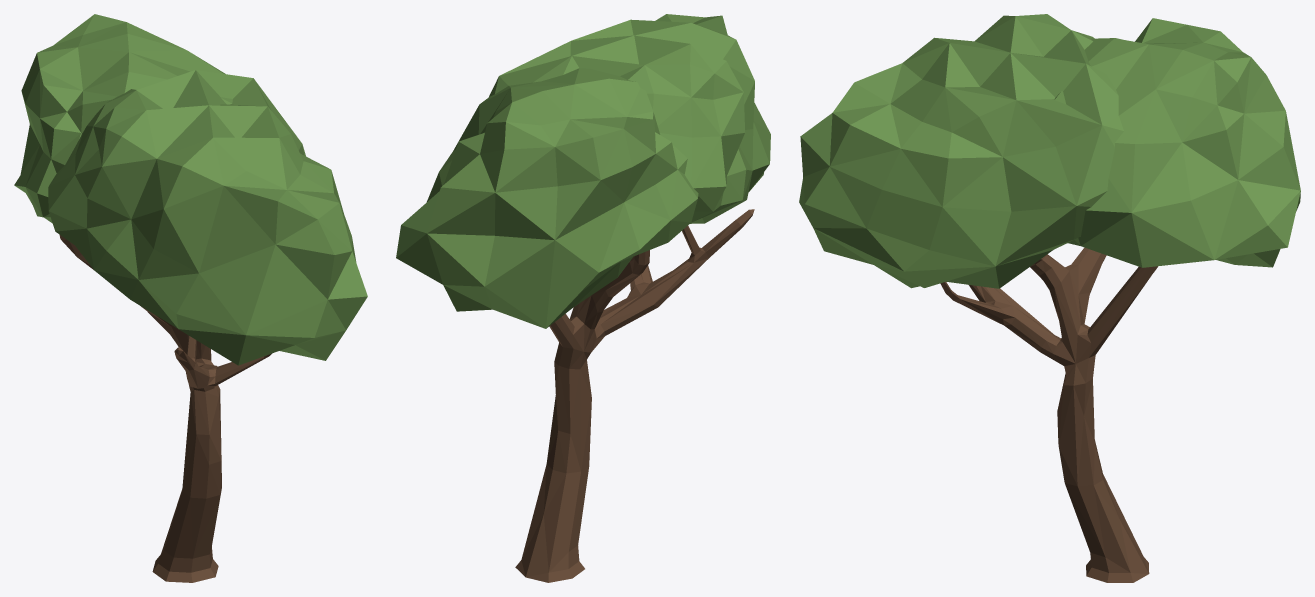
File: CommonTree_5.glb
3 views of the same model, side by side, from view 1: azimuth 30°, elevation 25°; view 2: azimuth 150°, elevation 25°; view 3: azimuth 270°, elevation 25° (orthographic). The views are drawn at different scales.
Visible parts, largest first — view 1: CommonTree_5; view 2: CommonTree_5; view 3: CommonTree_5.
Boxes of the visible parts, left/top/right/bottom form: CommonTree_5: left=14, top=14, right=367, bottom=582; CommonTree_5: left=396, top=14, right=770, bottom=582; CommonTree_5: left=799, top=14, right=1300, bottom=582.
Size of the model in its own units: 1.29 by 2.52 by 2.25.
